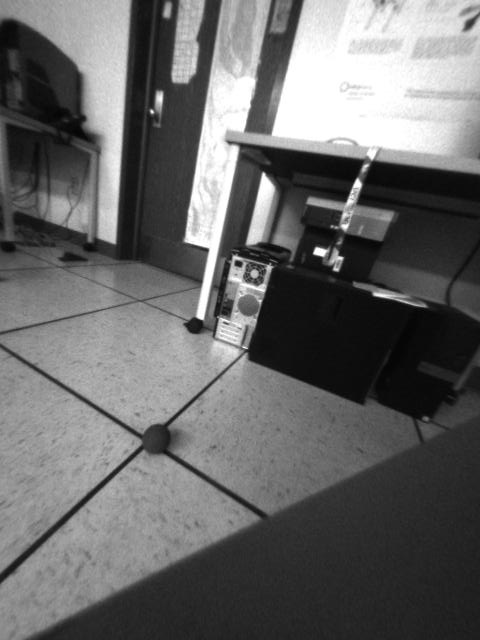dogtoy: (137, 413, 180, 466)
